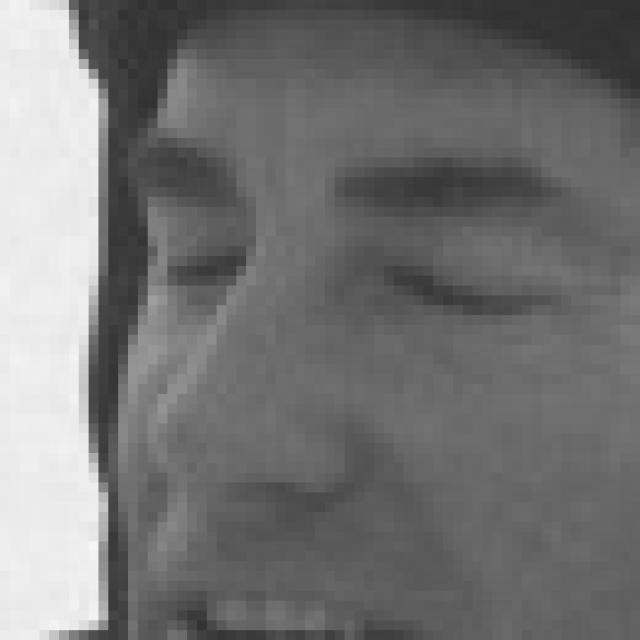real: (154, 0, 590, 616), (153, 194, 576, 341)
